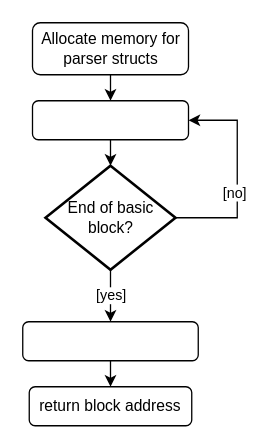
Image size: 270x448. Some labels were removed from this diagram. Each missing label, with the centre of its shape:
parse instruction: (x=109, y=119)
translate instructions: (x=109, y=340)
